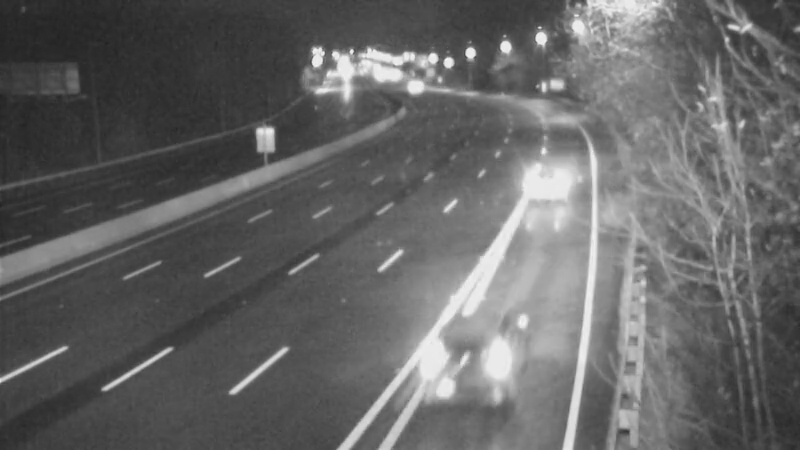vehicle: (411, 308, 521, 418), (512, 139, 592, 219), (389, 64, 439, 114)
